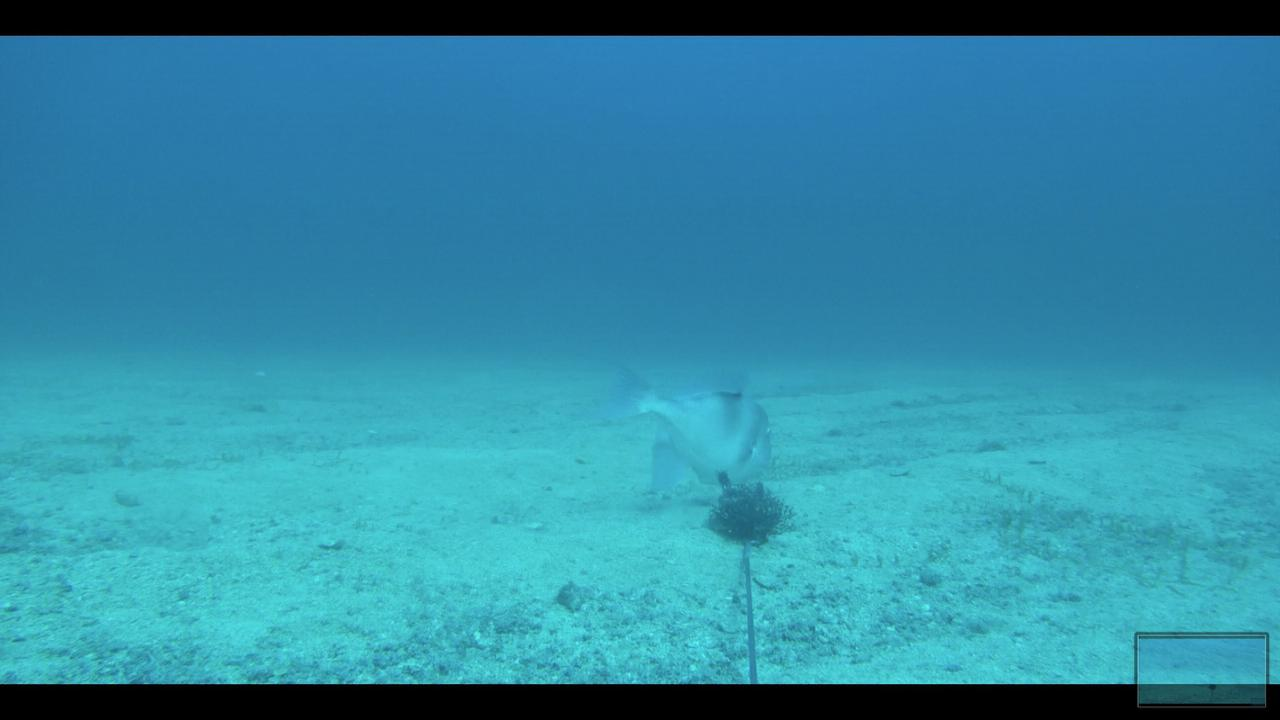balistes: (586, 352, 777, 508)
